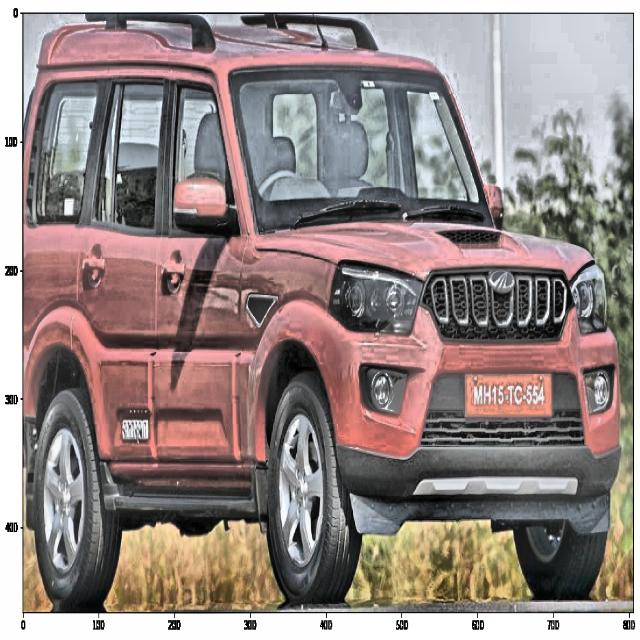license_plate: (465, 375, 554, 414)
